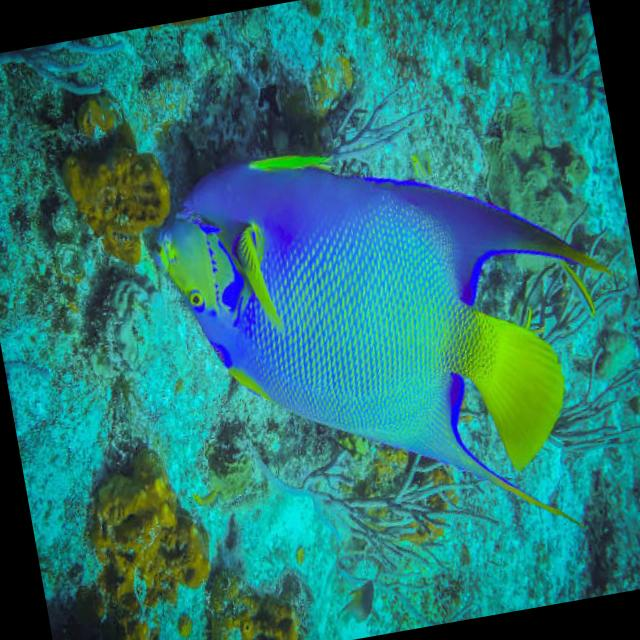AngelFish: (143, 104, 640, 591)
